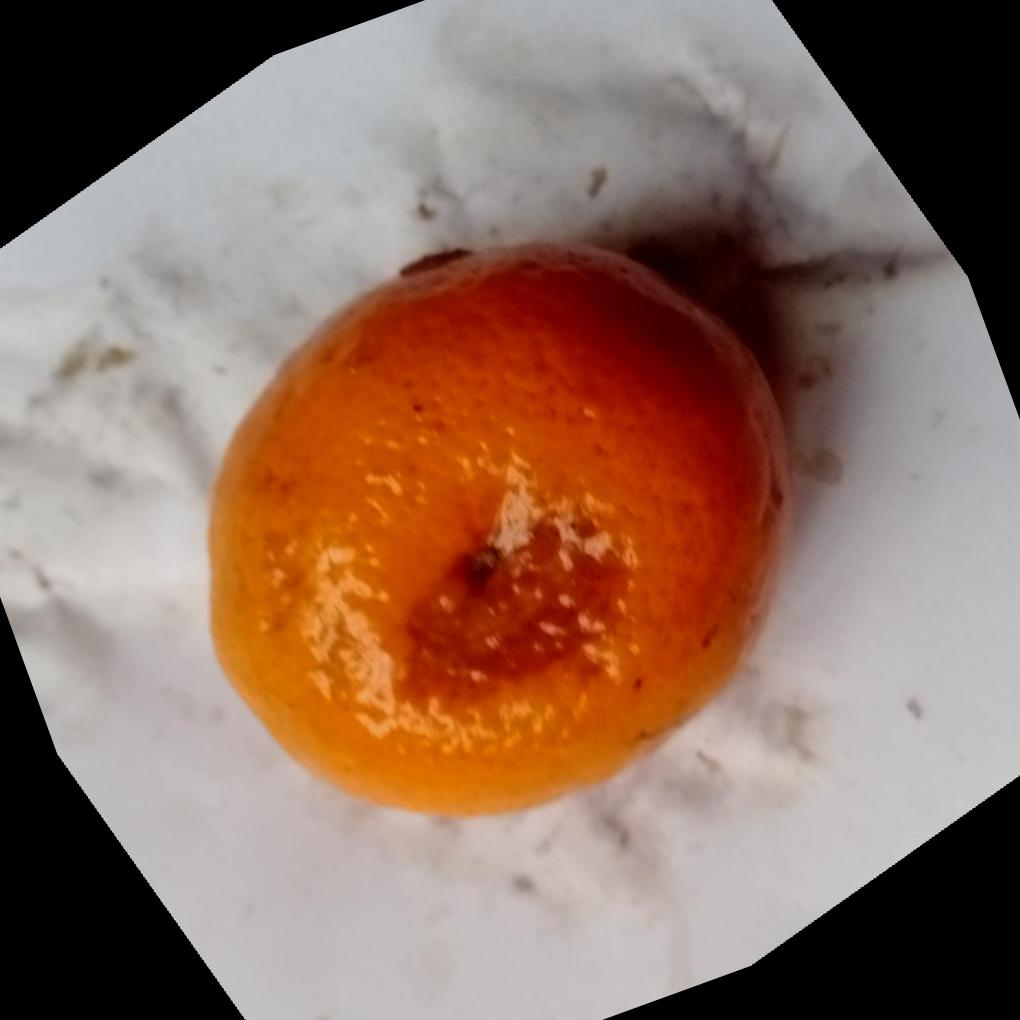FreshOrange: (203, 238, 792, 815)
